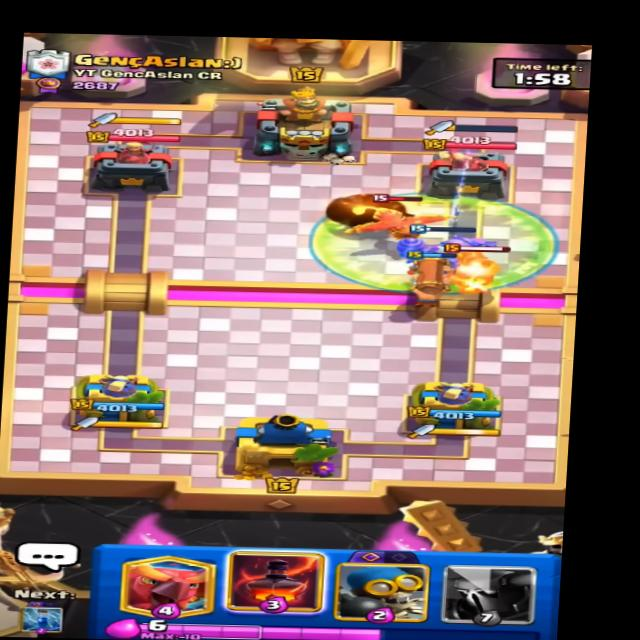mega-knight: (428, 243, 531, 299)
phoenix: (341, 193, 467, 244)
